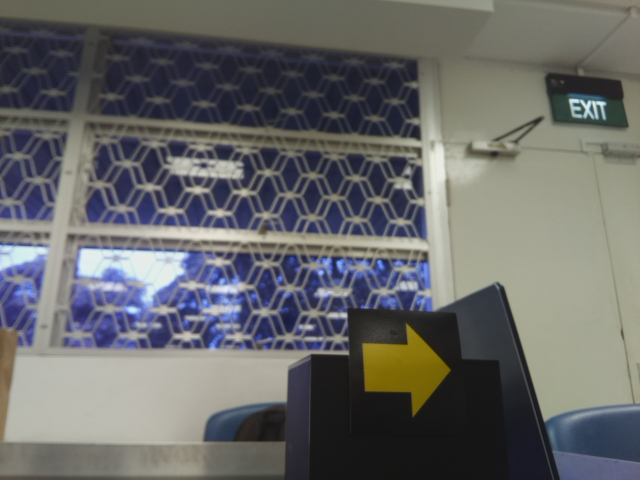right: (359, 311, 458, 426)
